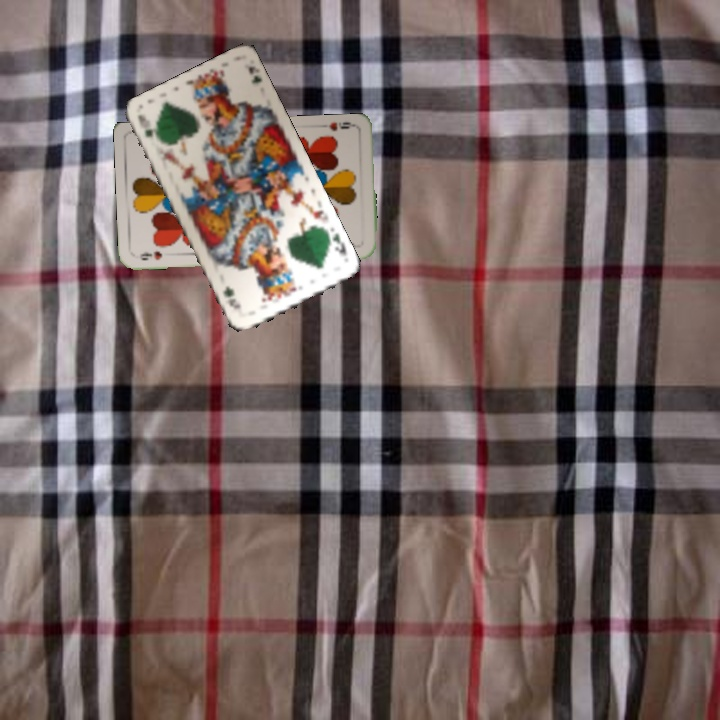GK: (323, 228, 349, 258), (133, 111, 156, 141)
H9: (325, 118, 357, 134), (136, 247, 164, 263)
